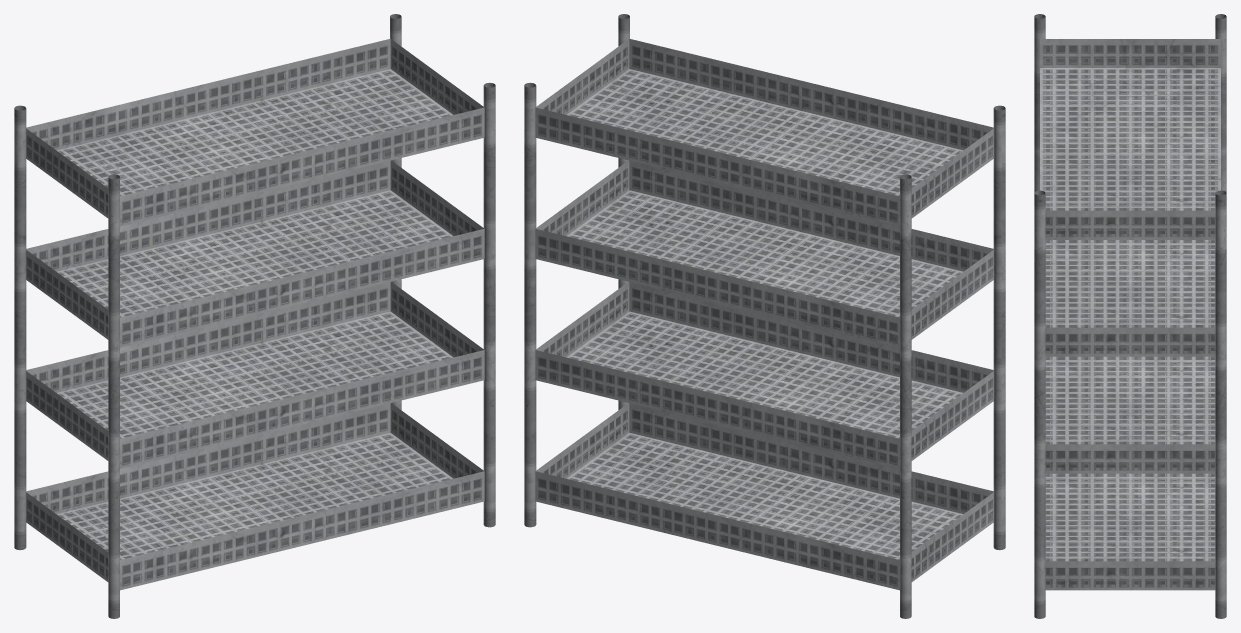
Rendered from basket_shelving_for_store_or_warehouse.opt.glb.
The picture shows the model from 3 angles, left to right: view 1: azimuth 30°, elevation 25°; view 2: azimuth 150°, elevation 25°; view 3: azimuth 270°, elevation 25°; orthographic projection. The views are drawn at different scales.
Parts seen in each view (by area): view 1: Material2 (×2); view 2: Material2 (×2); view 3: Material2 (×2).
Boxes of the visible parts, bbox=[...] form: Material2 (×2): bbox=[14, 14, 495, 618]; Material2 (×2): bbox=[524, 14, 1005, 618]; Material2 (×2): bbox=[1034, 14, 1226, 618].
Size of the model in its own units: 67.55 by 73.56 by 30.3.
Materials: 2 (2 with a texture image).
